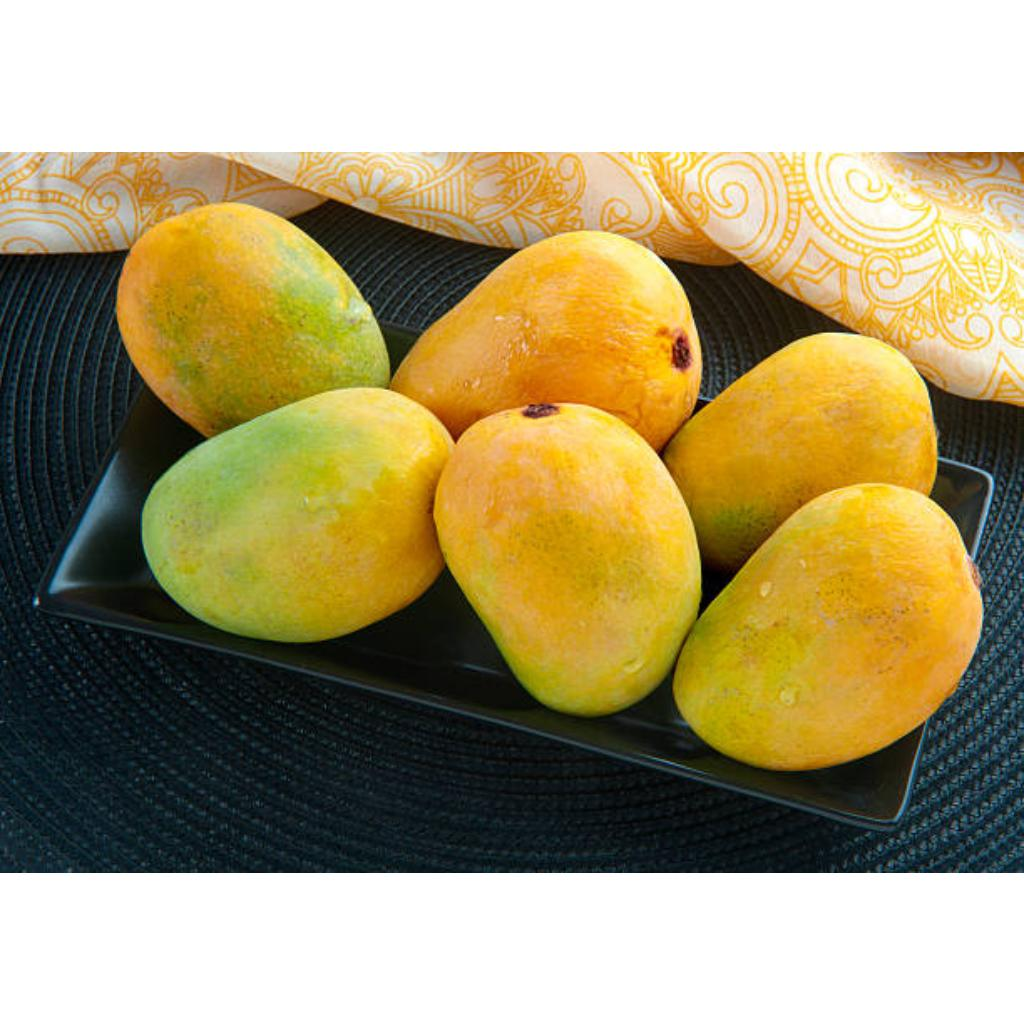mango: (674, 483, 982, 768), (434, 403, 702, 714), (142, 389, 454, 641), (392, 231, 700, 448), (662, 333, 938, 570), (116, 201, 390, 435)
